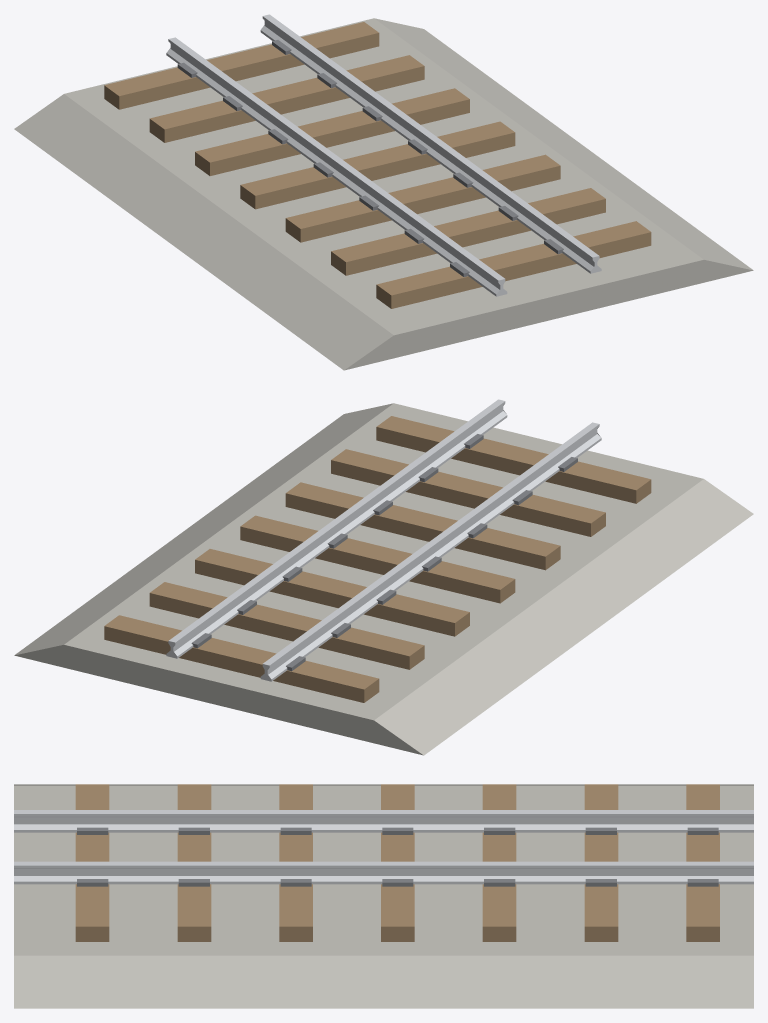
The model's file is steam-era-railway-and-rolling-stock-narrow-track-strai-069c7a2a.glb.
3 renders of one model, top to bottom at view 1: azimuth 30°, elevation 25°; view 2: azimuth 150°, elevation 25°; view 3: azimuth 270°, elevation 25°, orthographic. The views are drawn at different scales.
Parts seen in each view (by area): view 1: narrow-track-straight-4m; view 2: narrow-track-straight-4m; view 3: narrow-track-straight-4m.
Part boxes in pixels (x1=…): narrow-track-straight-4m: x1=14, y1=14, x2=753, y2=370; narrow-track-straight-4m: x1=14, y1=399, x2=753, y2=755; narrow-track-straight-4m: x1=14, y1=784, x2=753, y2=1008.
Bounding box in the file's own units: 2.87 × 0.3499 × 4.
